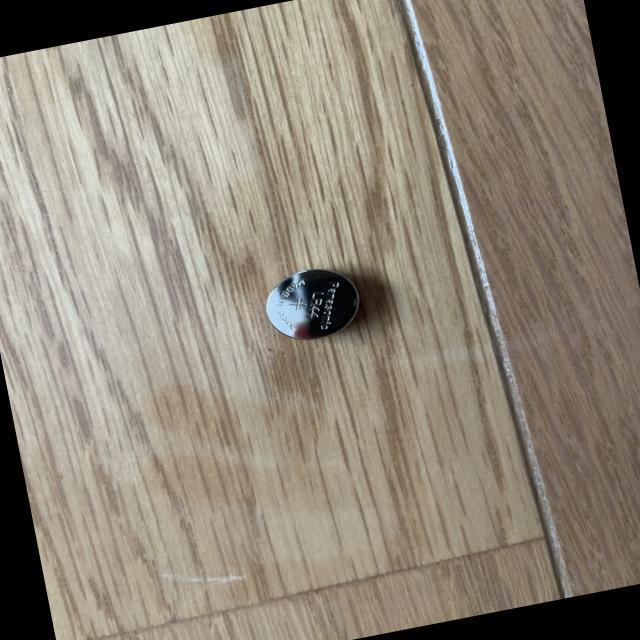COIN: (258, 254, 374, 356)
